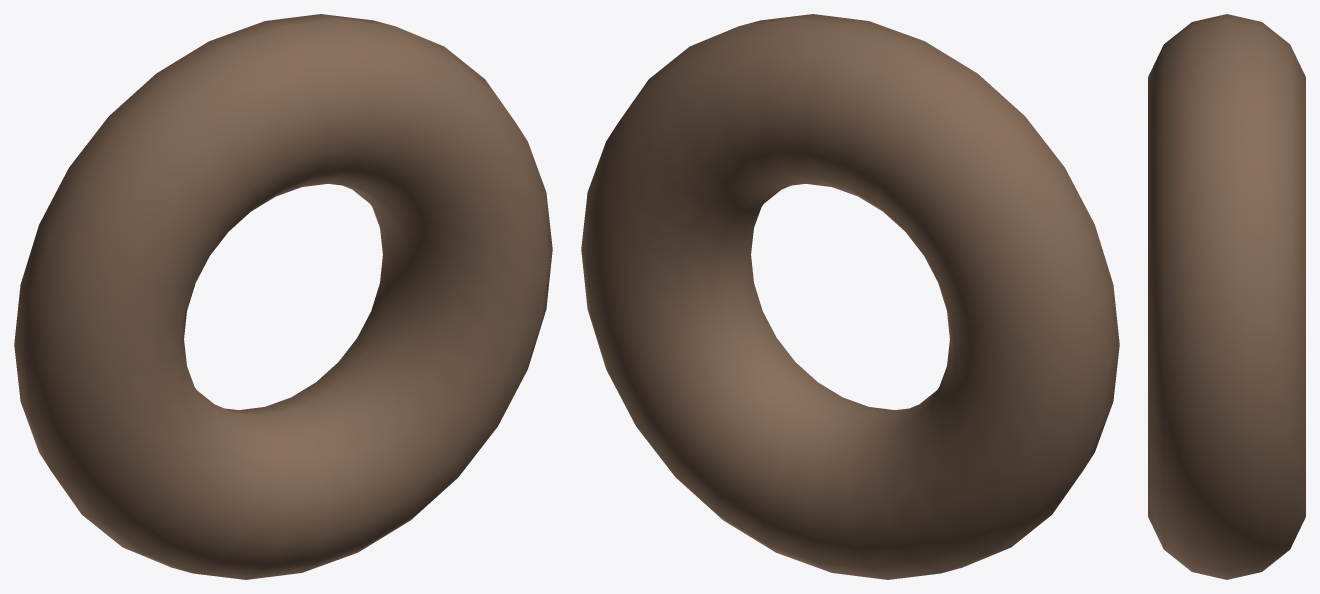
Rendered from hair-long-01.glb.
3 views of the same model, side by side, from view 1: azimuth 30°, elevation 25°; view 2: azimuth 150°, elevation 25°; view 3: azimuth 270°, elevation 25° (orthographic). The views are drawn at different scales.
Size of the model in its own units: 2.24 by 2.24 by 0.624.
